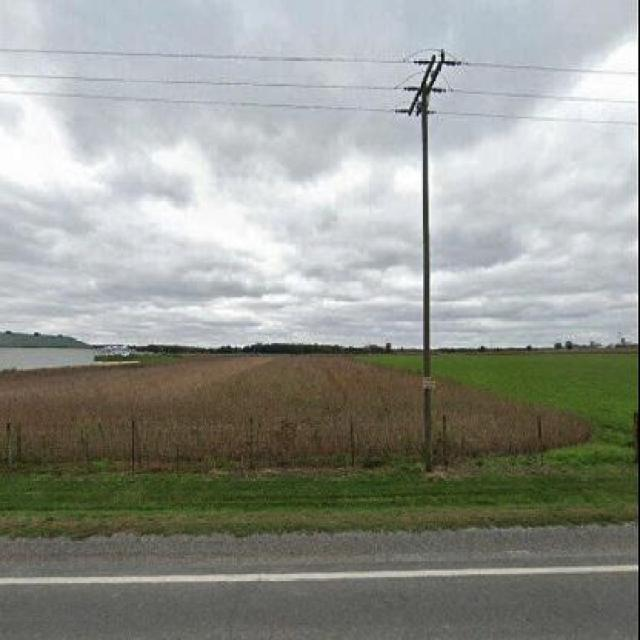crossarm: (406, 49, 446, 117)
pole: (422, 89, 432, 472)
wire: (0, 90, 639, 126), (0, 72, 638, 105), (0, 47, 638, 77)
